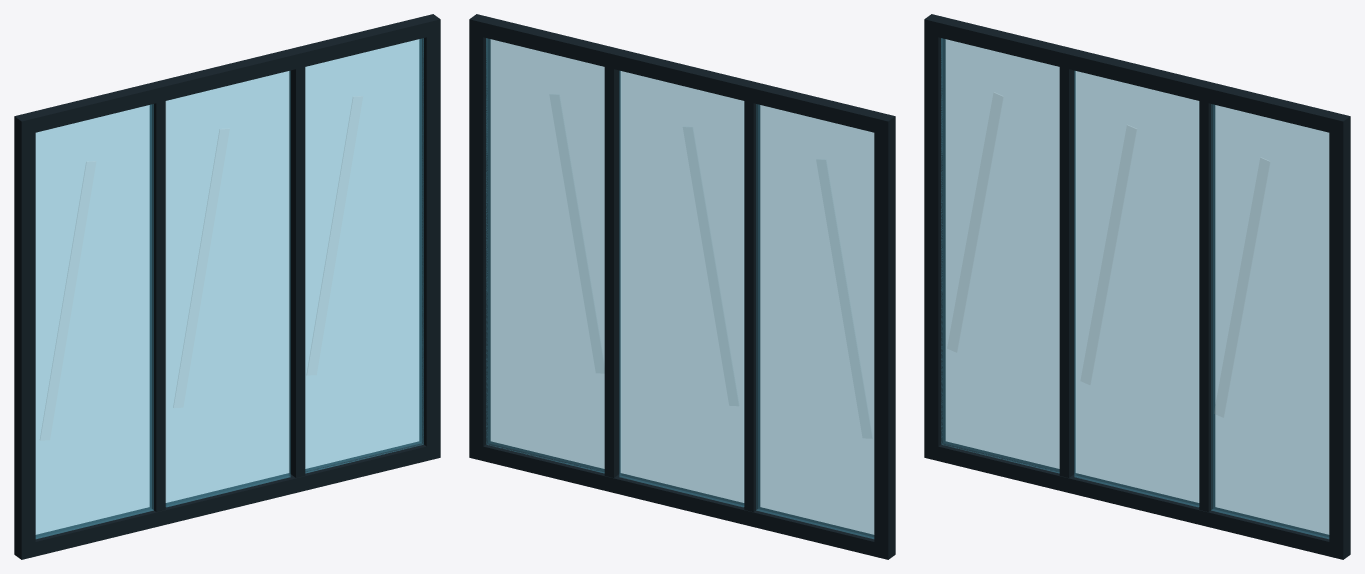
Rendered from window_3pan_2level.glb.
The picture shows the model from 3 angles, left to right: view 1: azimuth 30°, elevation 25°; view 2: azimuth 150°, elevation 25°; view 3: azimuth 330°, elevation 25°; orthographic projection.
Parts seen in each view (by area): view 1: Glass_Pane_2, Glass_Pane_1, Glass_Pane_3, Frame_Top, Frame_Bottom, Frame_Left, Frame_Right, Mullion_2, Mullion_1, Reflection_Stripe_2, Reflection_Stripe_3, Reflection_Stripe_1; view 2: Glass_Pane_2, Glass_Pane_1, Glass_Pane_3, Frame_Top, Frame_Bottom, Frame_Left, Frame_Right, Mullion_2, Mullion_1, Reflection_Stripe_1, Reflection_Stripe_3, Reflection_Stripe_2; view 3: Glass_Pane_2, Glass_Pane_3, Glass_Pane_1, Frame_Top, Frame_Bottom, Frame_Right, Frame_Left, Mullion_1, Mullion_2, Reflection_Stripe_2, Reflection_Stripe_3, Reflection_Stripe_1.
Boxes of the visible parts, x1,y1,x2,y2 form: Glass_Pane_2: [165, 71, 290, 507]; Glass_Pane_1: [35, 104, 153, 538]; Glass_Pane_3: [305, 38, 423, 473]; Frame_Top: [14, 14, 440, 135]; Frame_Bottom: [14, 441, 440, 559]; Frame_Left: [14, 131, 35, 545]; Frame_Right: [419, 34, 440, 446]; Mullion_2: [289, 67, 305, 477]; Mullion_1: [149, 101, 165, 511]; Reflection_Stripe_2: [173, 129, 229, 407]; Reflection_Stripe_3: [307, 96, 362, 374]; Reflection_Stripe_1: [40, 161, 95, 439]; Glass_Pane_2: [619, 71, 744, 507]; Glass_Pane_1: [756, 104, 874, 538]; Glass_Pane_3: [486, 38, 604, 473]; Frame_Top: [469, 14, 895, 135]; Frame_Bottom: [469, 441, 895, 559]; Frame_Left: [874, 131, 895, 545]; Frame_Right: [469, 34, 490, 446]; Mullion_2: [604, 67, 620, 477]; Mullion_1: [744, 101, 760, 511]; Reflection_Stripe_1: [817, 160, 871, 437]; Reflection_Stripe_3: [550, 95, 603, 372]; Reflection_Stripe_2: [683, 127, 737, 405]; Glass_Pane_2: [1074, 71, 1199, 507]; Glass_Pane_3: [1211, 104, 1329, 538]; Glass_Pane_1: [941, 38, 1059, 473]; Frame_Top: [924, 14, 1350, 135]; Frame_Bottom: [924, 441, 1350, 559]; Frame_Right: [1329, 131, 1350, 545]; Frame_Left: [924, 34, 945, 446]; Mullion_1: [1059, 67, 1075, 477]; Mullion_2: [1199, 101, 1215, 511]; Reflection_Stripe_2: [1081, 125, 1136, 384]; Reflection_Stripe_3: [1214, 158, 1269, 417]; Reflection_Stripe_1: [947, 92, 1003, 351].
Size of the model in its own units: 3 by 3 by 0.09.
